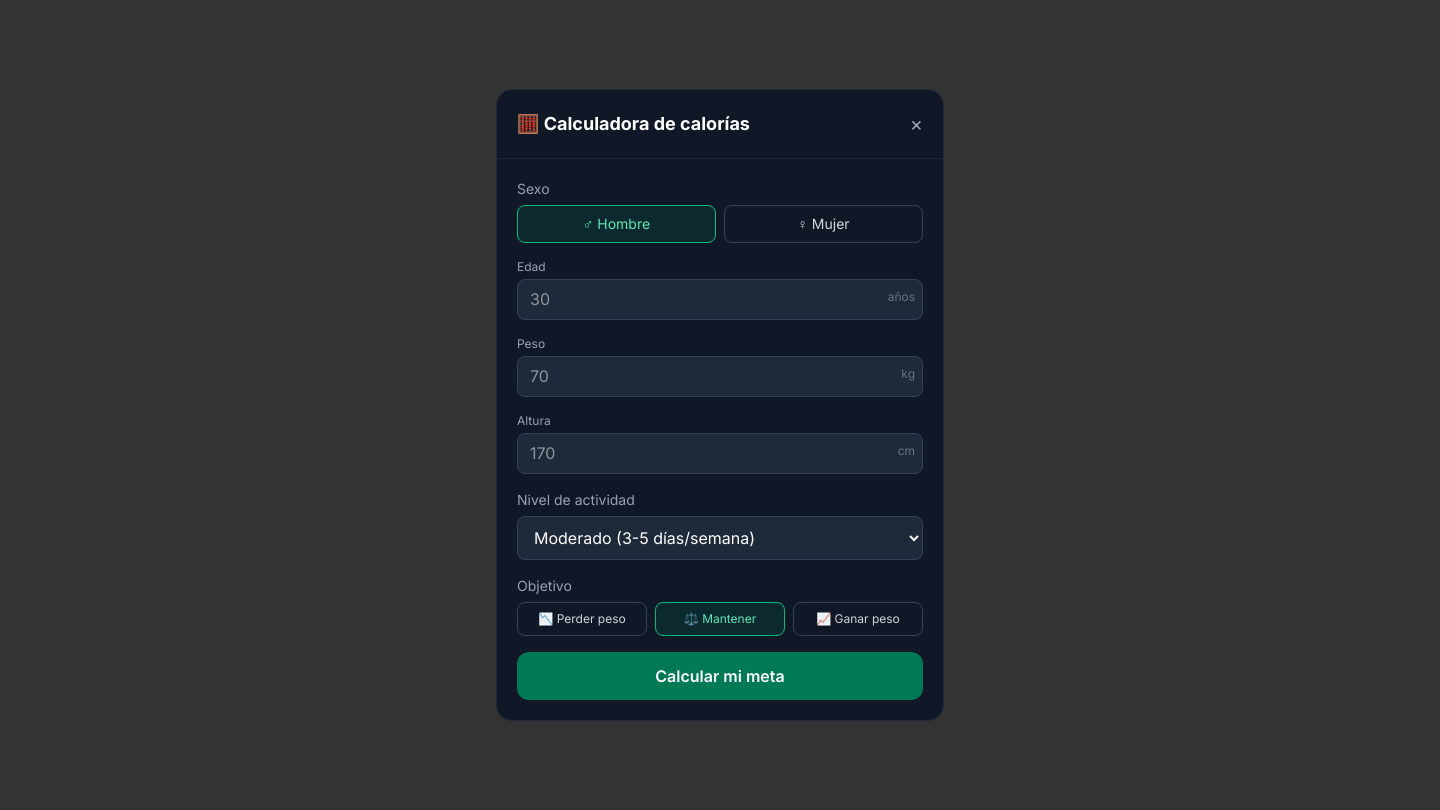
CalorieCalculator › enforces minimum 1200 cal recommendation
The width and height of the screenshot is (1440, 810).
# Very low values + lose goal → recommended hits 1200 floor
Click the text "📉 Perder peso". click: [582, 619]
box: [517,602,647,636]
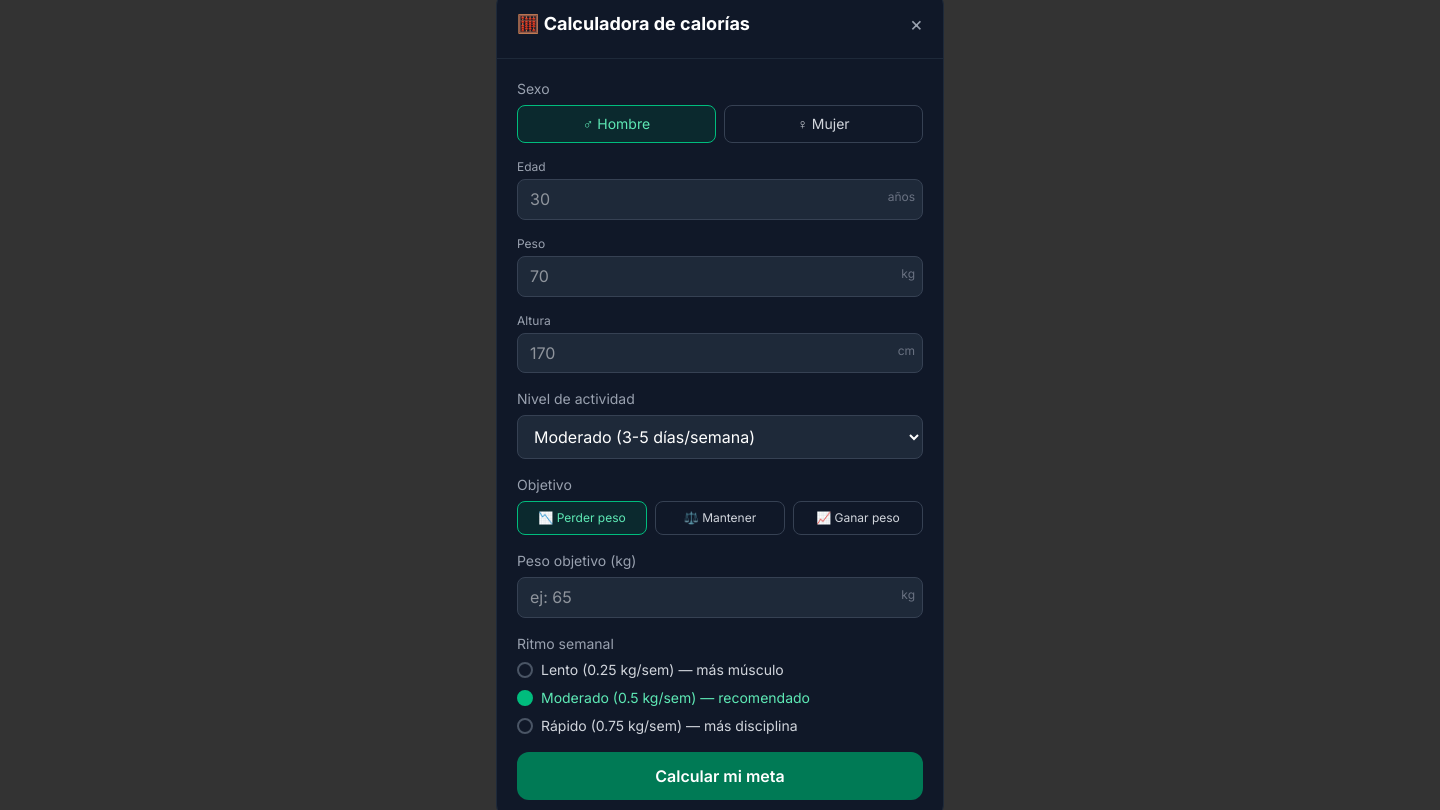
Type "60" into the number field labelled "Edad". click: [720, 199]
box: [517,179,923,220]
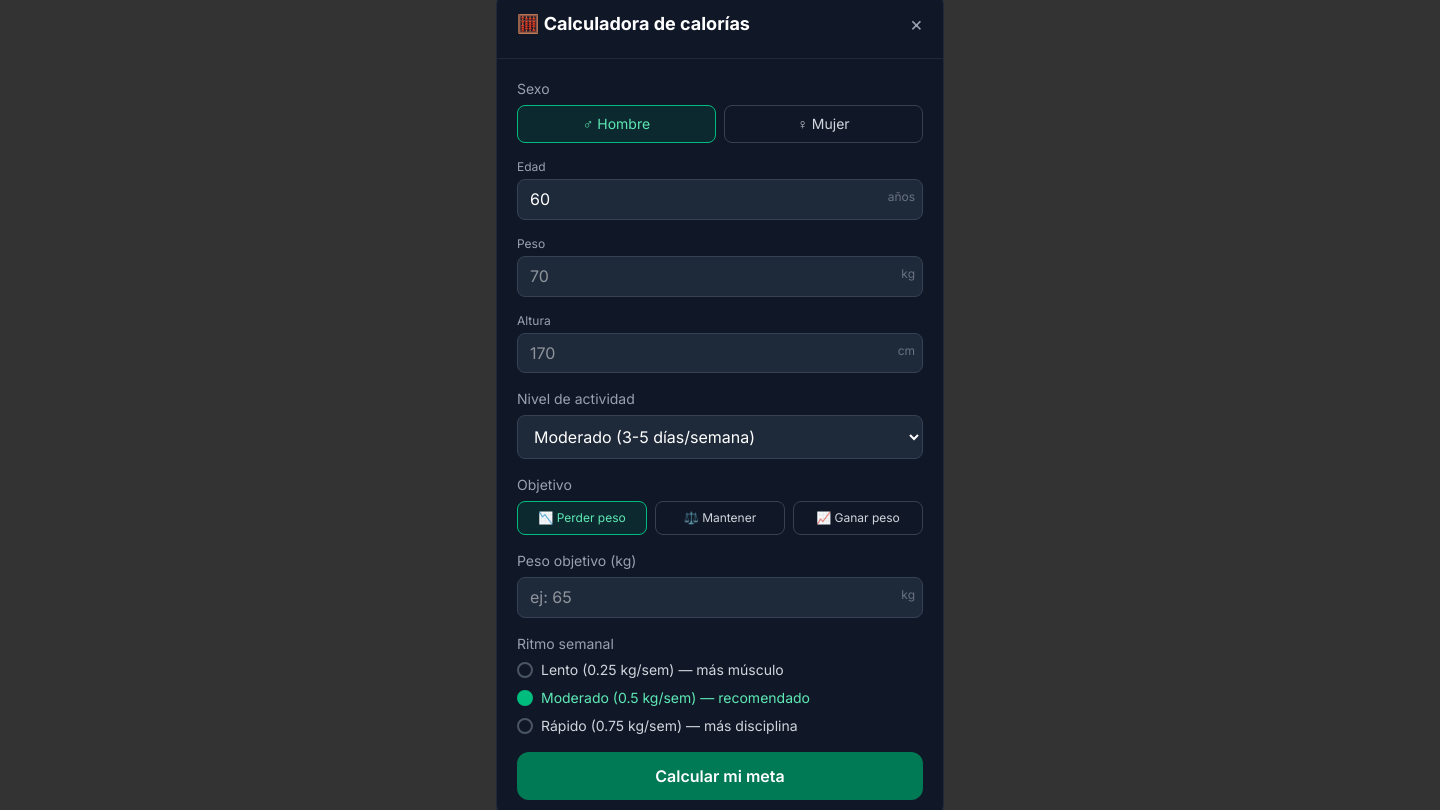
Type "40" into the number field labelled "Peso". click: [720, 276]
box: [517,256,923,296]
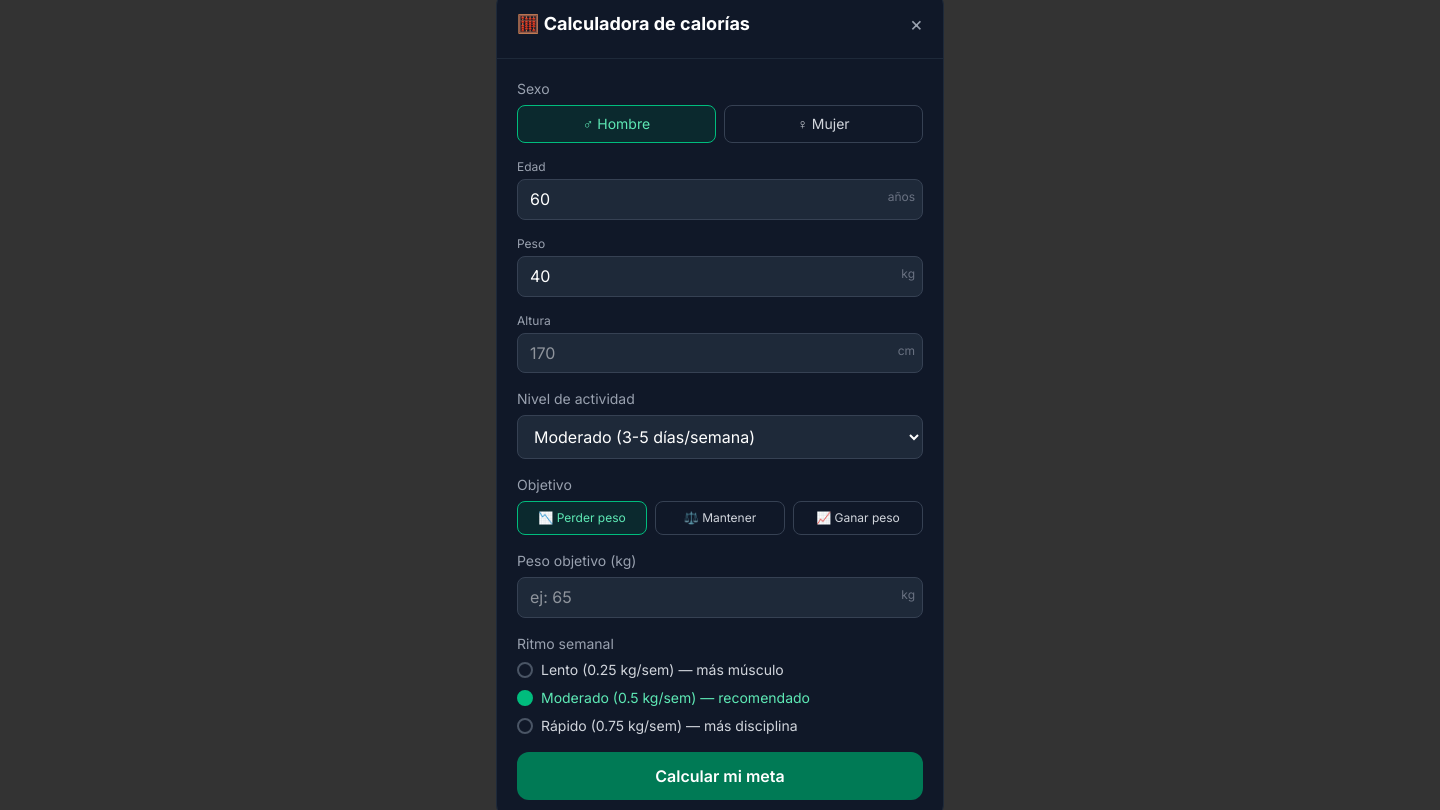
Type "150" into the number field labelled "Altura". click: [720, 353]
box: [517,332,923,373]
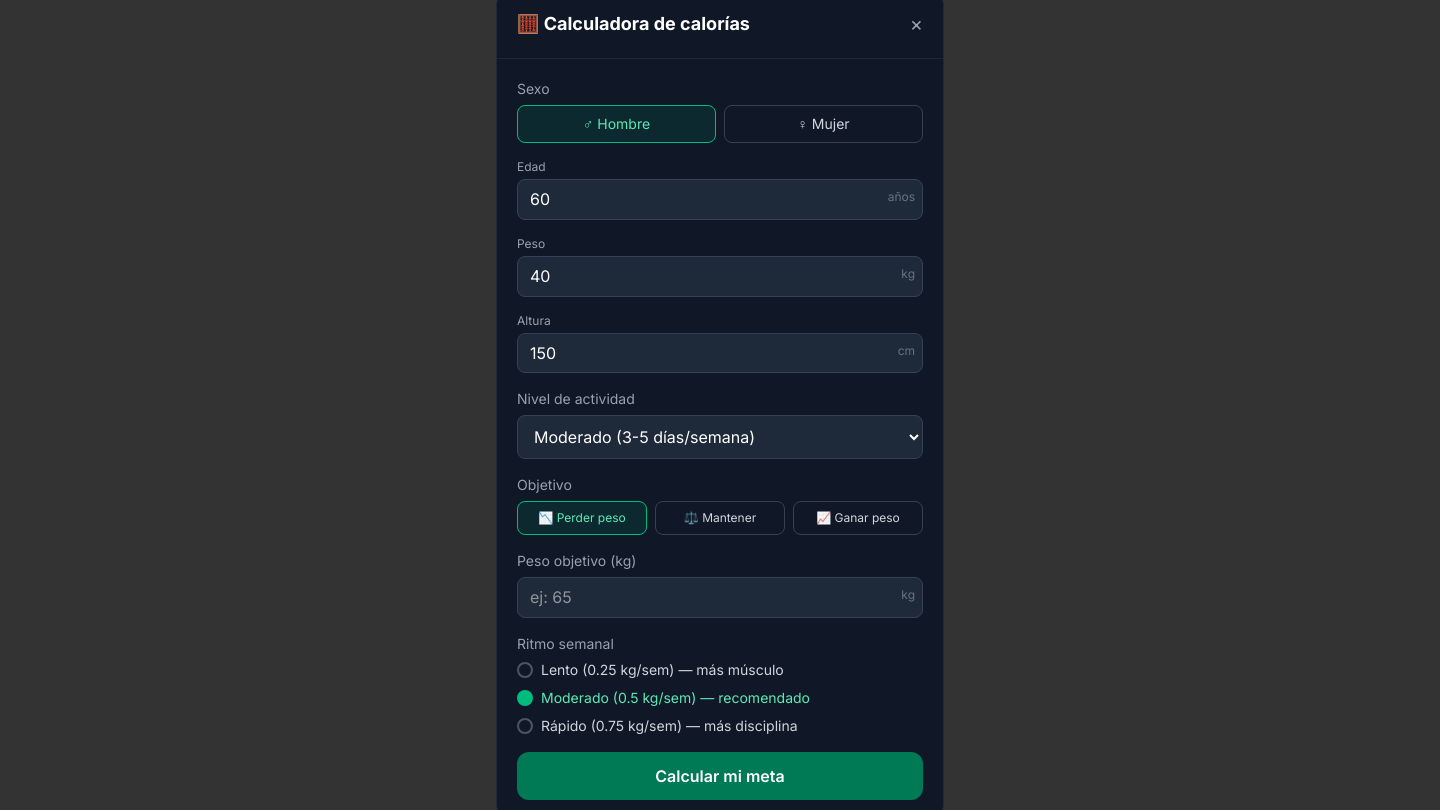
Click the button "Calcular mi meta". click: [720, 776]
box: [517,752,923,800]
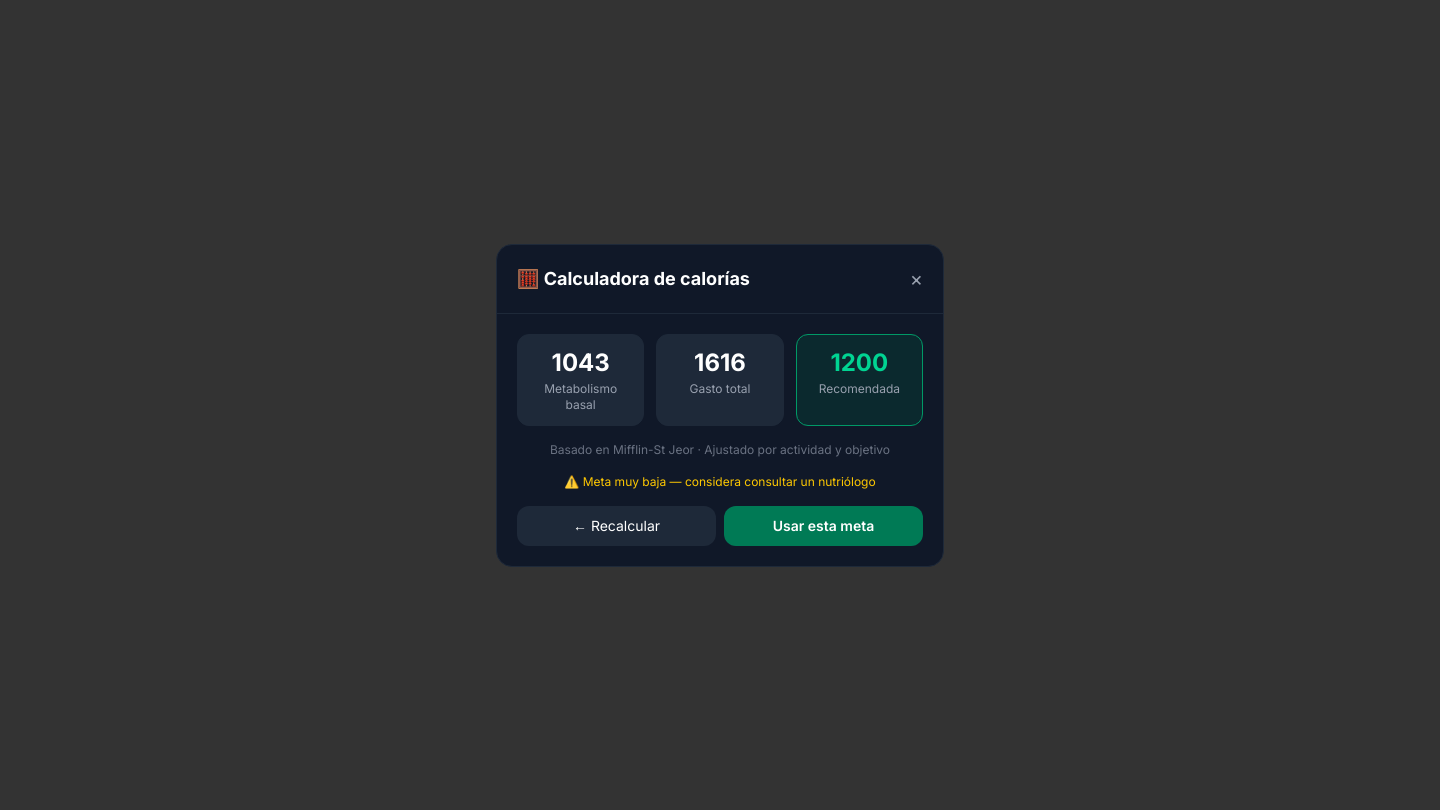
Expected: the text "Recomendada" is shown, [819,380,900,396]
